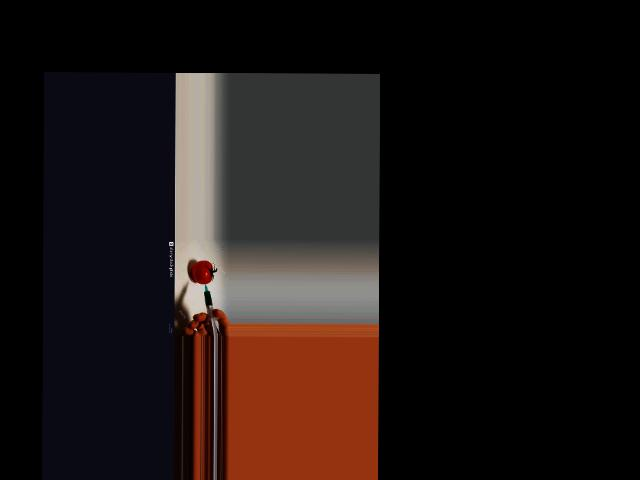tomato: (191, 261, 212, 284)
